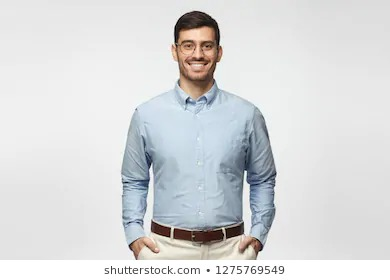F_belt: (149, 220, 248, 245)
F_shirt: (116, 81, 283, 246)
